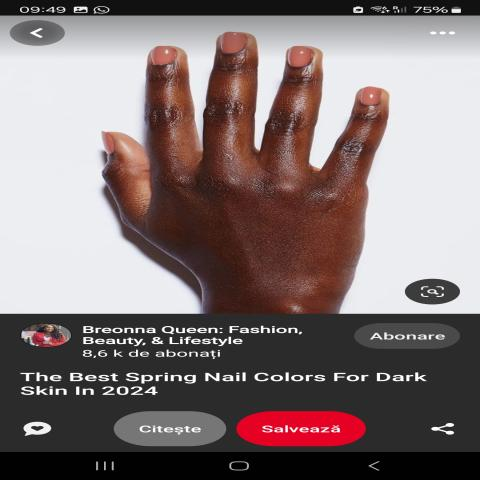hands: (87, 25, 404, 300)
